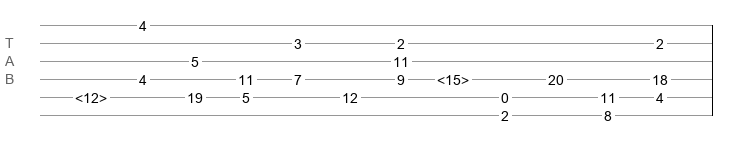0: (501, 90, 509, 100)
11: (238, 72, 254, 82), (393, 54, 409, 64), (600, 90, 616, 100)
12: (342, 90, 358, 100)
18: (652, 72, 668, 82)
19: (187, 90, 203, 100)
2: (397, 36, 405, 46), (501, 108, 509, 118), (656, 36, 664, 46)
20: (548, 72, 564, 82)
3: (294, 36, 302, 46)
4: (139, 18, 147, 28), (139, 72, 147, 82), (656, 90, 664, 100)
5: (191, 54, 199, 64), (242, 90, 250, 100)
7: (294, 72, 302, 82)
8: (604, 108, 612, 118)
9: (397, 72, 405, 82)
harmonic: (75, 90, 107, 100), (437, 72, 469, 82)
